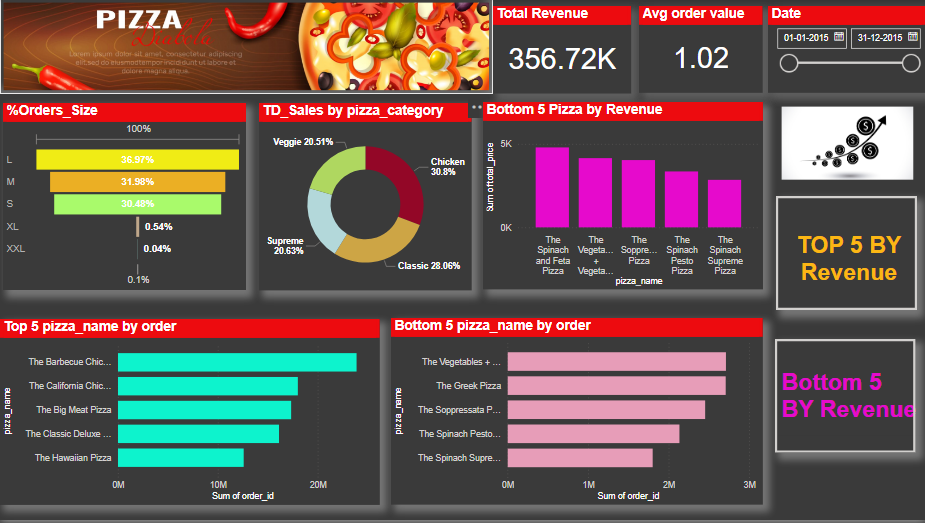

The page's visual inventory and layout, read from the dashboard file:
{"tool":"powerbi","page":{"name":"Page 2","canvas":[1280,720],"ordinal":1},"visuals":[{"type":"donutChart","fields":{"Y":["pizza_sales.TD_Sales"],"Category":["pizza_sales.pizza_category"]},"box":[357.8,143.1,294.3,259.2],"z":0},{"type":"image","box":[0,0,681.1,131.1],"z":1000},{"type":"barChart","title":"Top 5 pizza_name by order","fields":{"Category":["pizza_sales.pizza_name"],"Y":["Sum(pizza_sales.order_id)"]},"box":[0,442.9,525.2,256.5],"z":2000},{"type":"textbox","box":[1075.4,280.6,196.3,141],"z":3000},{"type":"barChart","title":"Bottom 5  pizza_name by order","fields":{"Category":["pizza_sales.pizza_name"],"Y":["Sum(pizza_sales.order_id)"]},"box":[540.5,441,514.2,258.5],"z":4000},{"type":"funnel","title":"%Orders_Size","fields":{"Category":["pizza_sales.pizza_size"],"Y":["pizza_sales.Orders_Percentage_By_Size"]},"box":[4.1,143.8,335.9,258.5],"z":5000},{"type":"card","title":"Total Revenue","fields":{"Values":["pizza_sales.Total_Revenue"]},"box":[681.1,10.3,191.5,120.8],"z":6000},{"type":"card","title":"Avg order value","fields":{"Values":["pizza_sales.Avg_Pizzas_Per_Order"]},"box":[882.9,10.3,170.9,119.5],"z":7000},{"type":"slicer","title":"Date","fields":{"Values":["DateTable.Date"]},"box":[1061.5,10.3,218.5,119.5],"z":8000},{"type":"textbox","box":[1075.4,470,200.4,132.7],"z":10000},{"type":"columnChart","title":"Bottom 5 Pizza by Revenue","fields":{"Y":["Sum(pizza_sales.total_price)"],"Category":["pizza_sales.pizza_name"]},"box":[667.9,142.8,387.3,259.3],"z":12000},{"type":"actionButton","box":[1072.7,272.3,194.9,157.6],"z":12500},{"type":"actionButton","box":[1071.3,470,194,157],"z":13250},{"type":"image","box":[1075.4,143.8,192.1,110.6],"z":14000}]}

Visuals, with their boxes in screenshot pixels (x1, y1, x2, y2), scaled from the page's 1280x720 canvas onto the 925x523 screenshot:
donutChart - pizza_sales.TD_Sales x pizza_sales.pizza_category: (259,104,471,292)
image: (0,0,492,95)
"Top 5 pizza_name by order" barChart: (0,322,380,508)
textbox: (777,204,919,306)
"Bottom 5  pizza_name by order" barChart: (391,320,762,508)
"%Orders_Size" funnel: (3,104,246,292)
"Total Revenue" card: (492,7,631,95)
"Avg order value" card: (638,7,762,94)
"Date" slicer: (767,7,924,94)
textbox: (777,341,922,438)
"Bottom 5 Pizza by Revenue" columnChart: (483,104,763,292)
actionButton: (775,198,916,312)
actionButton: (774,341,914,455)
image: (777,104,916,185)
